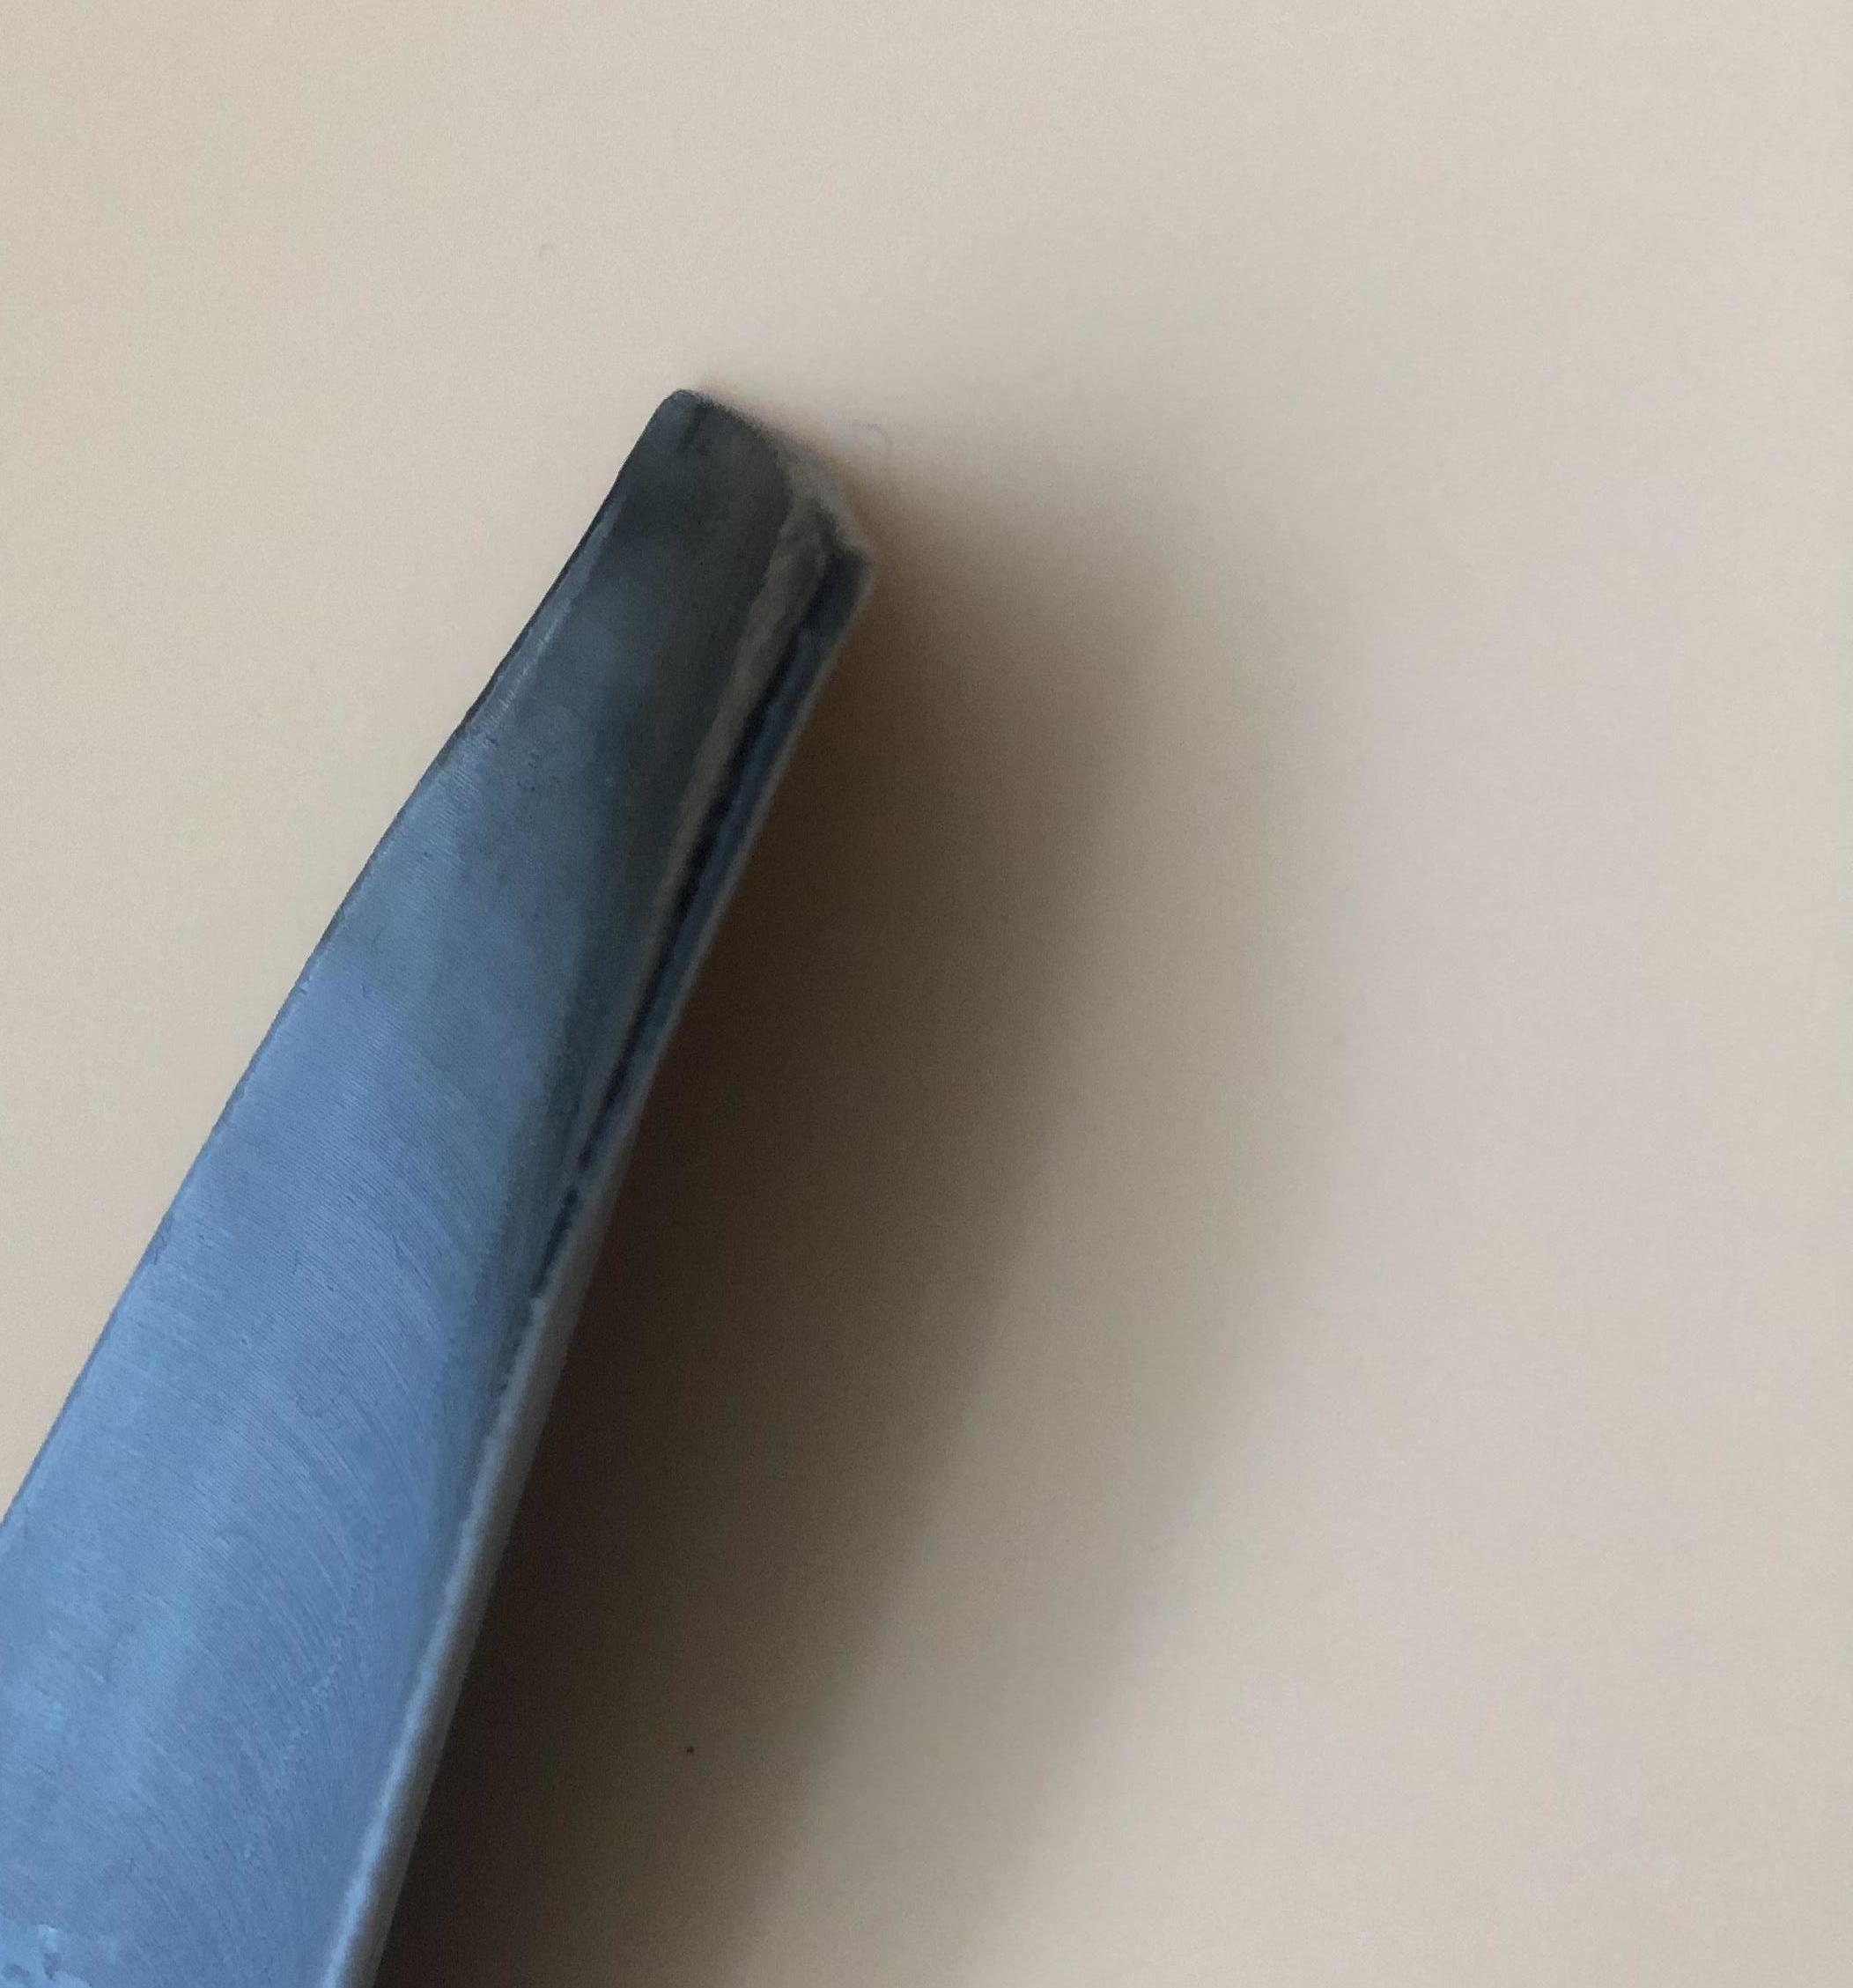ablation: (533, 533, 874, 908)
